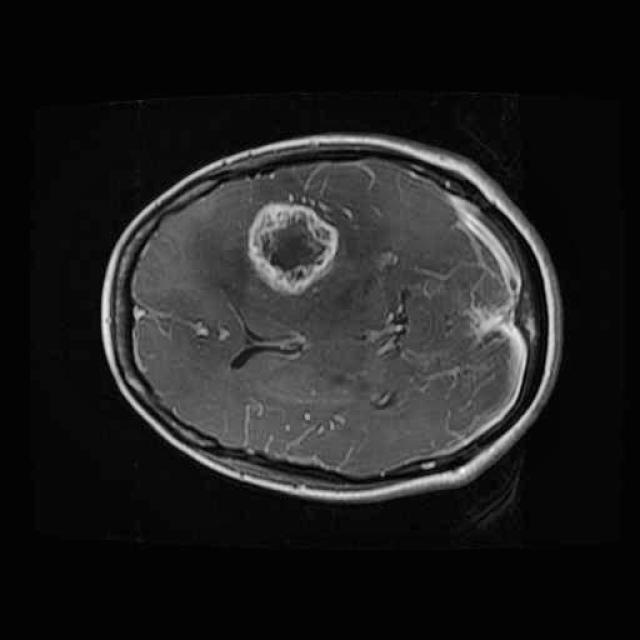Non-Tumor: (234, 189, 350, 305)
